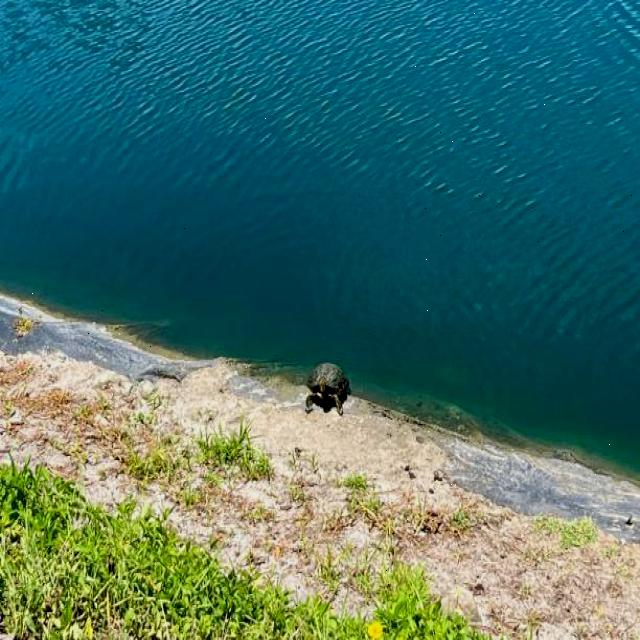tortoise: (292, 358, 358, 419)
